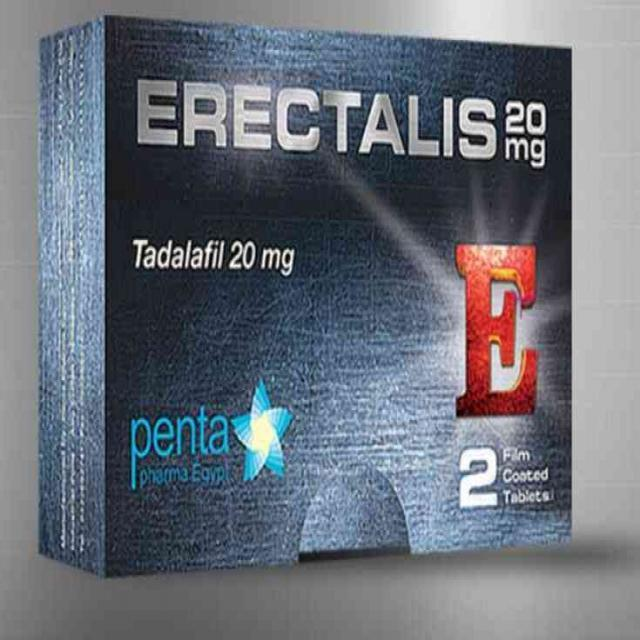drug-name: (133, 70, 500, 162)
